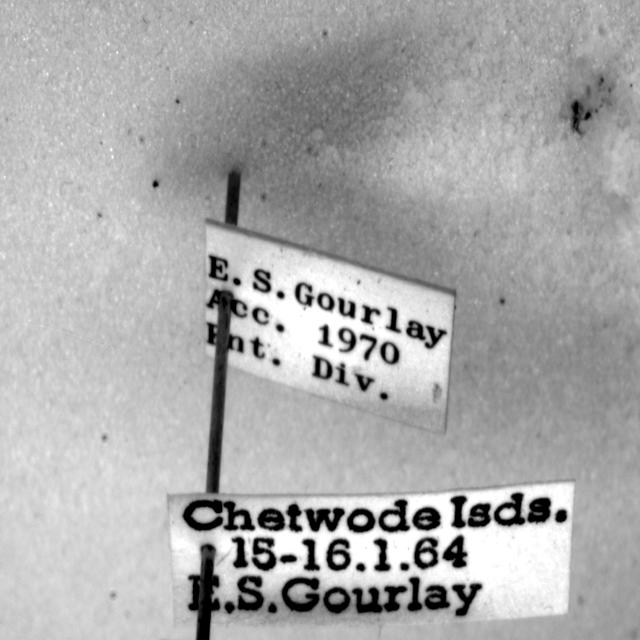typed_label: (169, 482, 574, 626), (205, 219, 455, 433)
